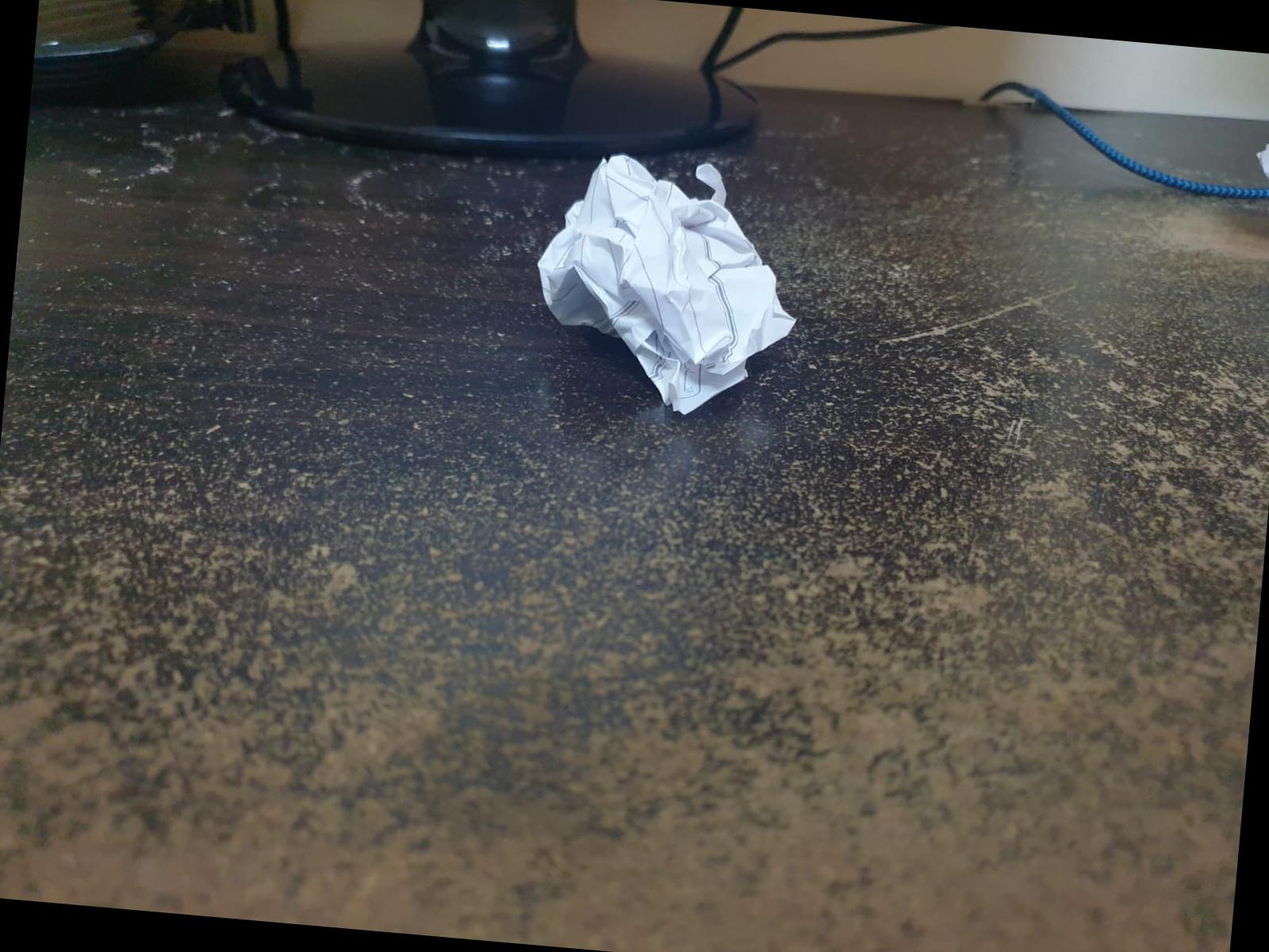Kertas: (531, 139, 813, 415)
